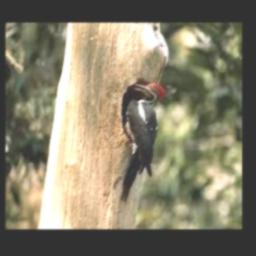Woodpecker: (120, 82, 165, 202)
